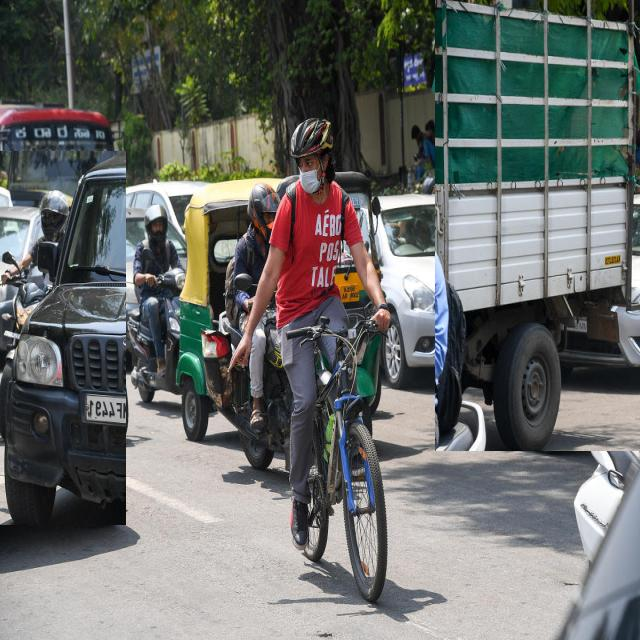bicycle: (228, 120, 390, 602)
car: (0, 152, 126, 525)
motorcycle: (129, 204, 185, 402)
truck: (435, 0, 640, 451)
